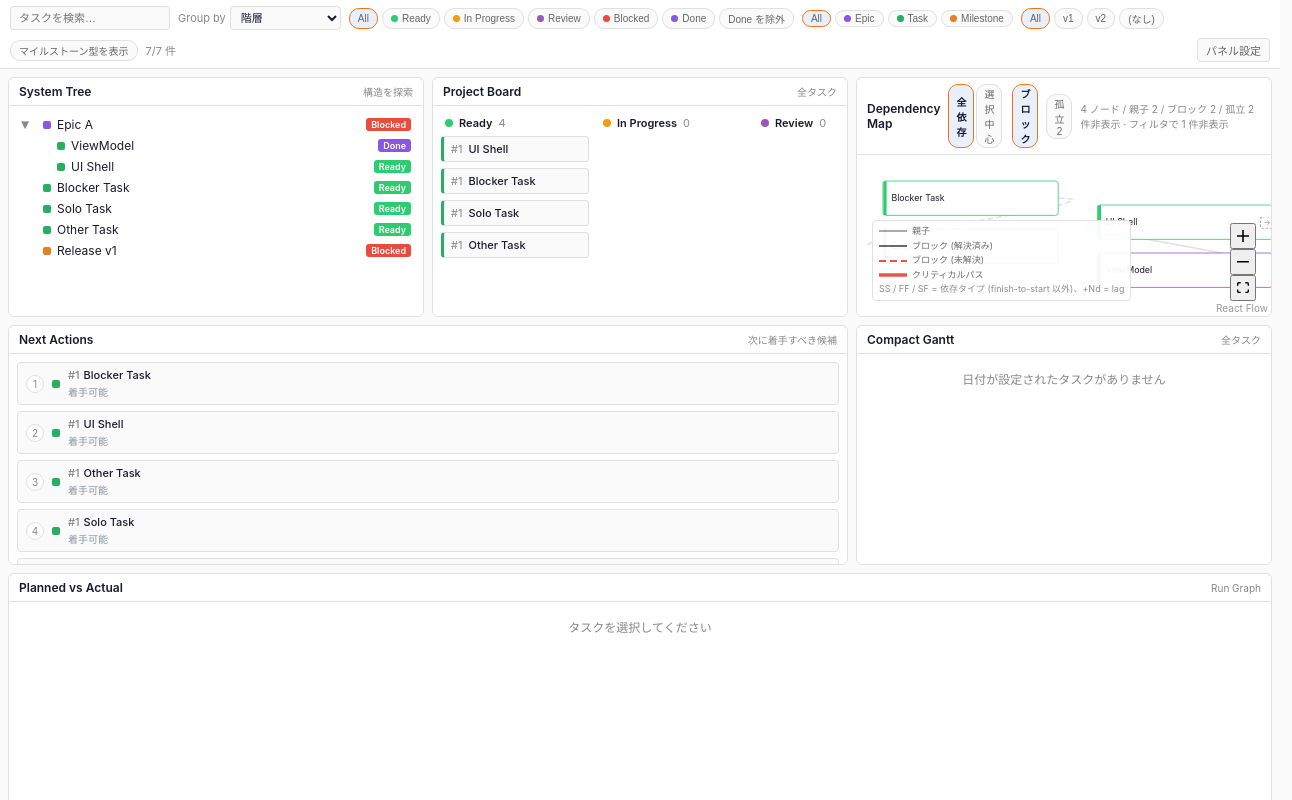
Test case: [FR-VIS-030-AC1] マイルストーン型のタスクは既定で Dependency Map のノードに表示されず、表示を有効にするとひし形マークで通常ノードと区別される › 既定では ms ノードが無く、トグルで data-milestone 付きノードとして現れる
Expected: the element with class "react-flow__node" showing "UI Shell →⋯" is shown, [1097,205,1271,240]
Expected: the button "Release v1 Blocked" is shown, [39,240,415,261]
Step 1. Click the button "マイルストーン型を表示" → (74, 50), box [10,40,138,60]
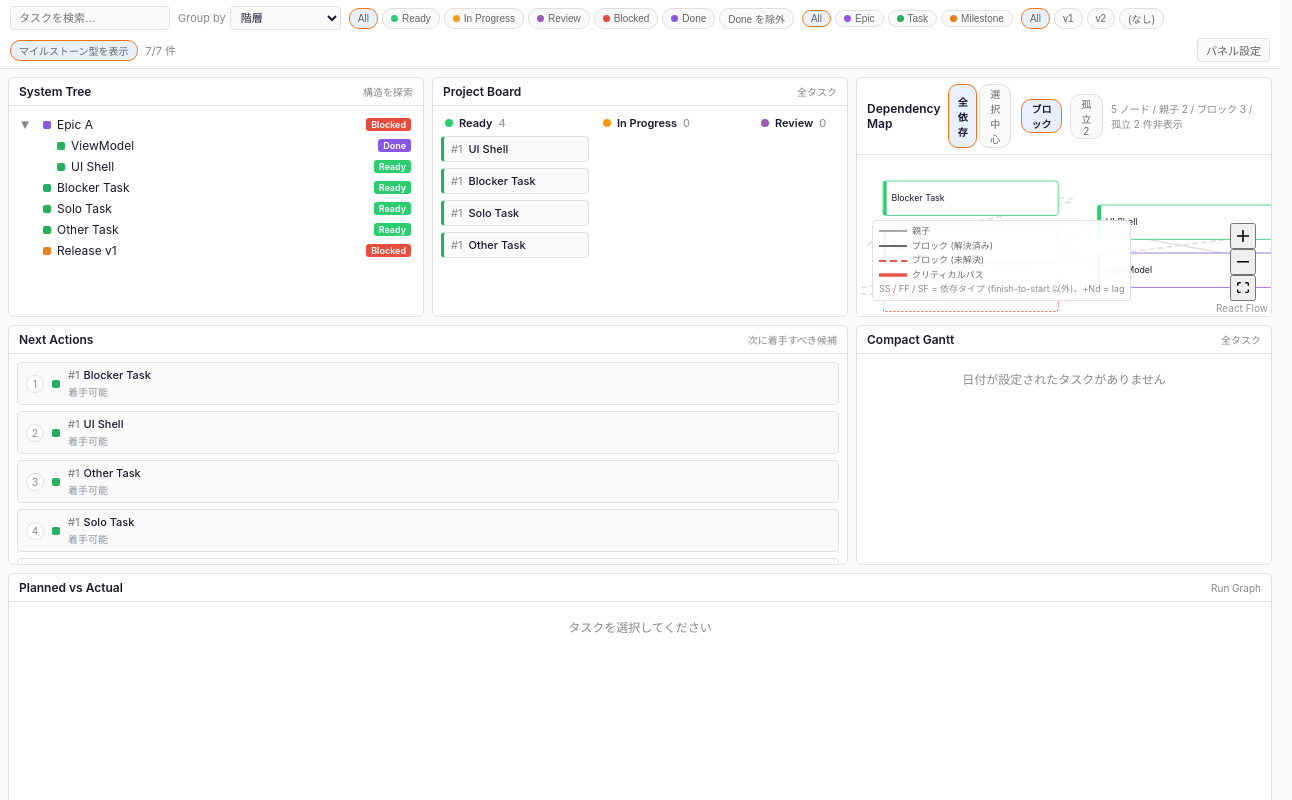
Expected: the element with class "react-flow__node" showing "Release v1" is shown, [883,277,1059,312]
